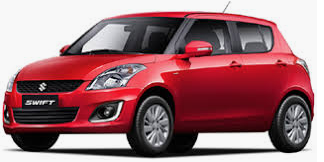car: (2, 10, 315, 157)
